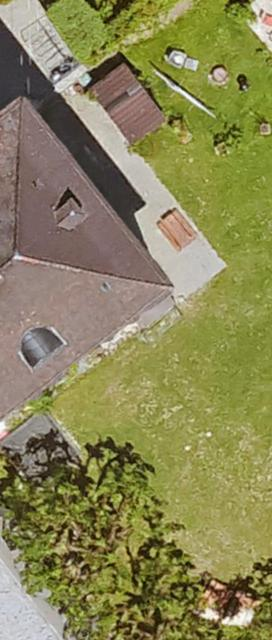tree: (0, 440, 272, 640)
